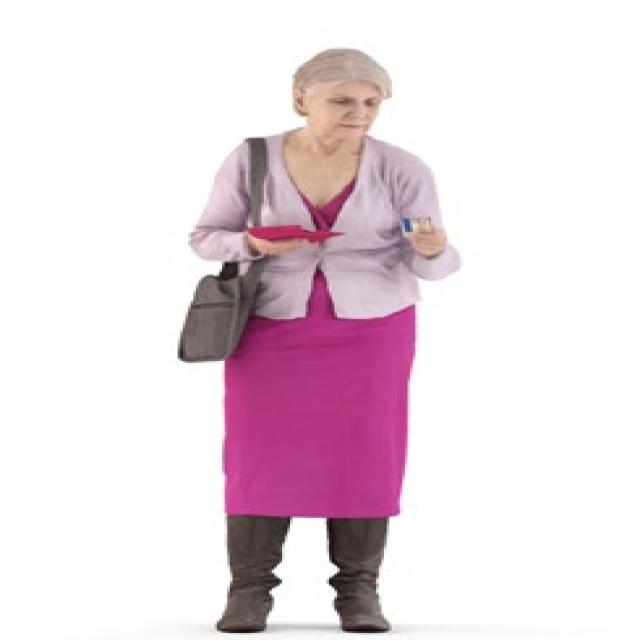standing: (182, 46, 475, 634)
